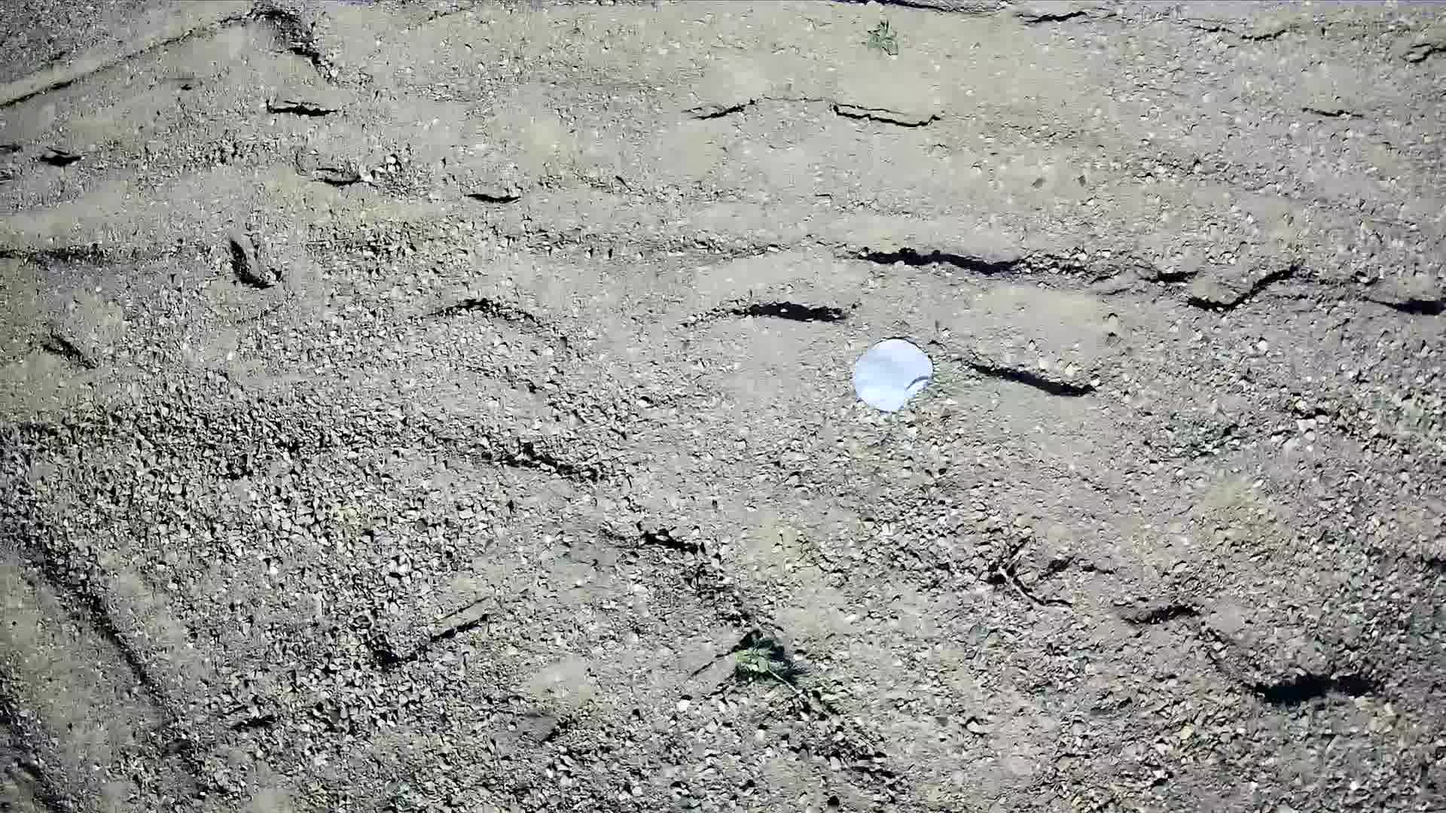Target: (852, 340, 935, 413)
